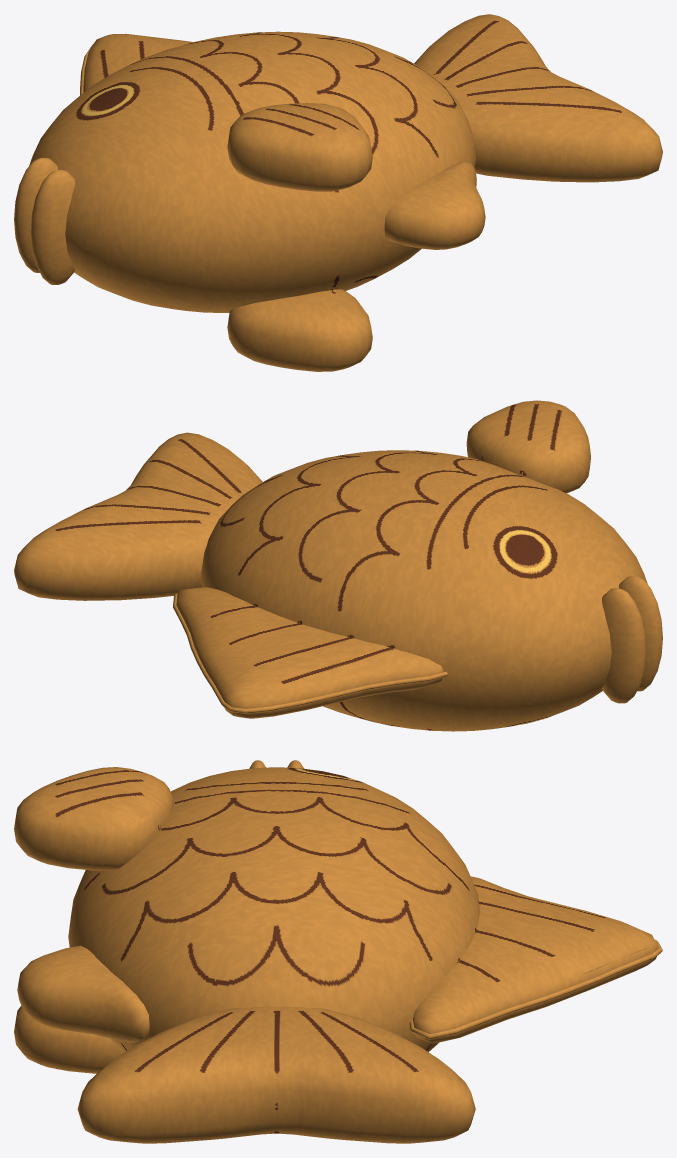
Rendered from TaiyakiPlush.fbx.
3 renders of one model, top to bottom at view 1: azimuth 30°, elevation 25°; view 2: azimuth 150°, elevation 25°; view 3: azimuth 270°, elevation 25°, orthographic. The views are drawn at different scales.
Visible parts, largest first — view 1: TaiyakiPlush_V3; view 2: TaiyakiPlush_V3; view 3: TaiyakiPlush_V3.
Part boxes in pixels (x1,y1,x2,y2): TaiyakiPlush_V3: (14, 14, 662, 371); TaiyakiPlush_V3: (14, 400, 662, 731); TaiyakiPlush_V3: (14, 760, 662, 1143).
Size of the model in its own units: 1.17 by 0.48 by 1.04.
Materials: 1 (1 with a texture image).
